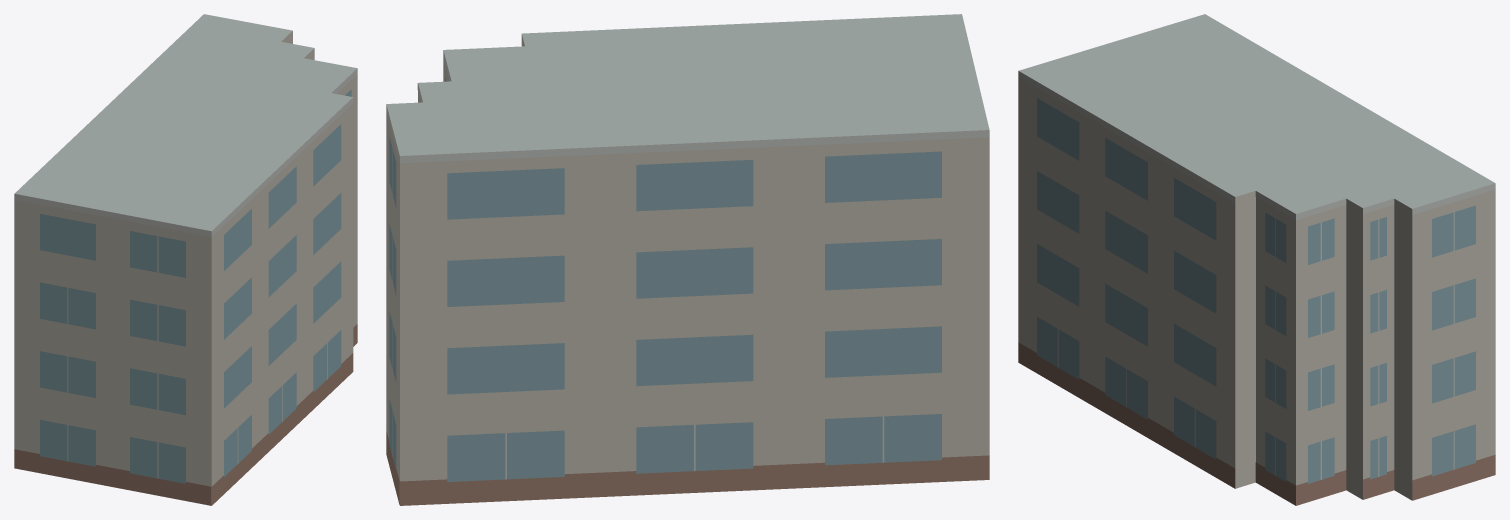
Rendered from survey-upis-32774065.glb.
3 views of the same model, side by side, from view 1: azimuth 30°, elevation 25°; view 2: azimuth 150°, elevation 25°; view 3: azimuth 270°, elevation 25° (orthographic). The views are drawn at different scales.
Parts seen in each view (by area): view 1: survey-upis-32774065.tmp; view 2: survey-upis-32774065.tmp; view 3: survey-upis-32774065.tmp.
Part boxes in pixels (x1,y1,x2,y2): survey-upis-32774065.tmp: (14, 14, 357, 505); survey-upis-32774065.tmp: (386, 14, 989, 505); survey-upis-32774065.tmp: (1018, 14, 1495, 505).
Bounding box in the file's own units: 16.92 × 11.5 × 17.05.
